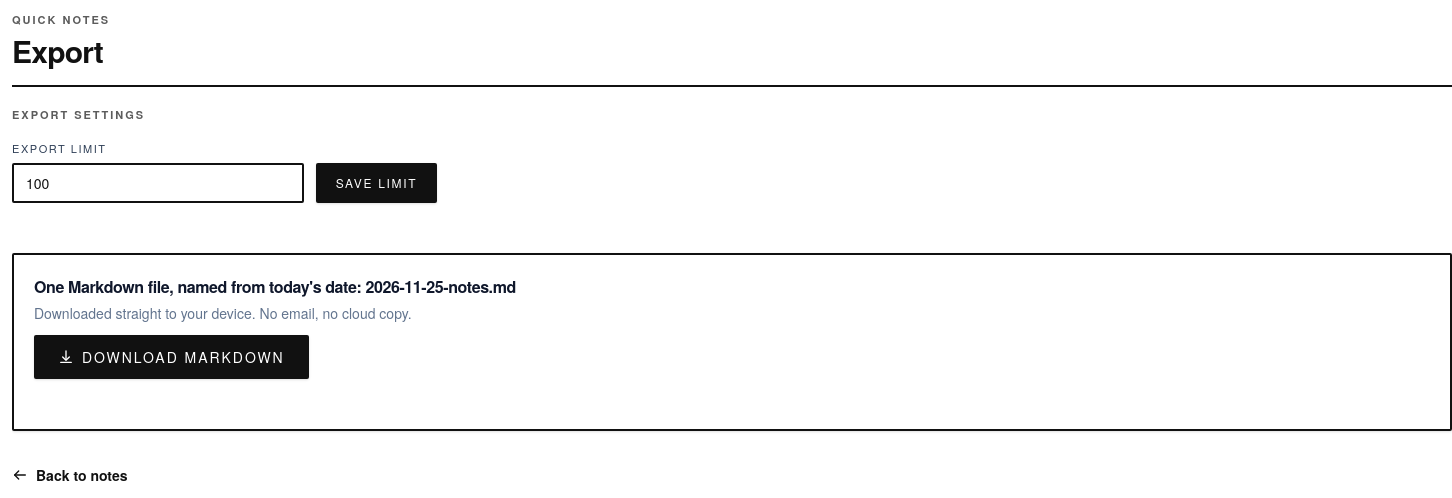
Scenario: Export screen — export-limit setting › [AC-019] saves a new positive whole number and confirms it
The image size is (1452, 498).
Replace the text in the field with test id "export-limit-default-100-input" with "25" at (158, 183), box left=12, top=163, right=304, bottom=203
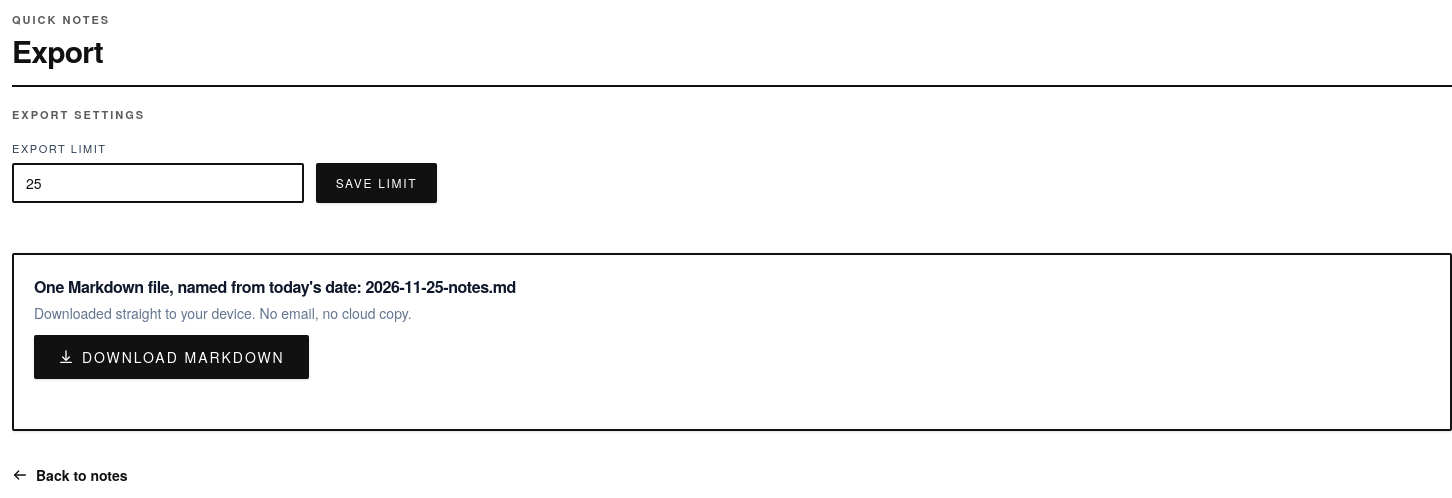
Click the button with test id "save-limit-btn" at (376, 183), box left=316, top=163, right=437, bottom=203
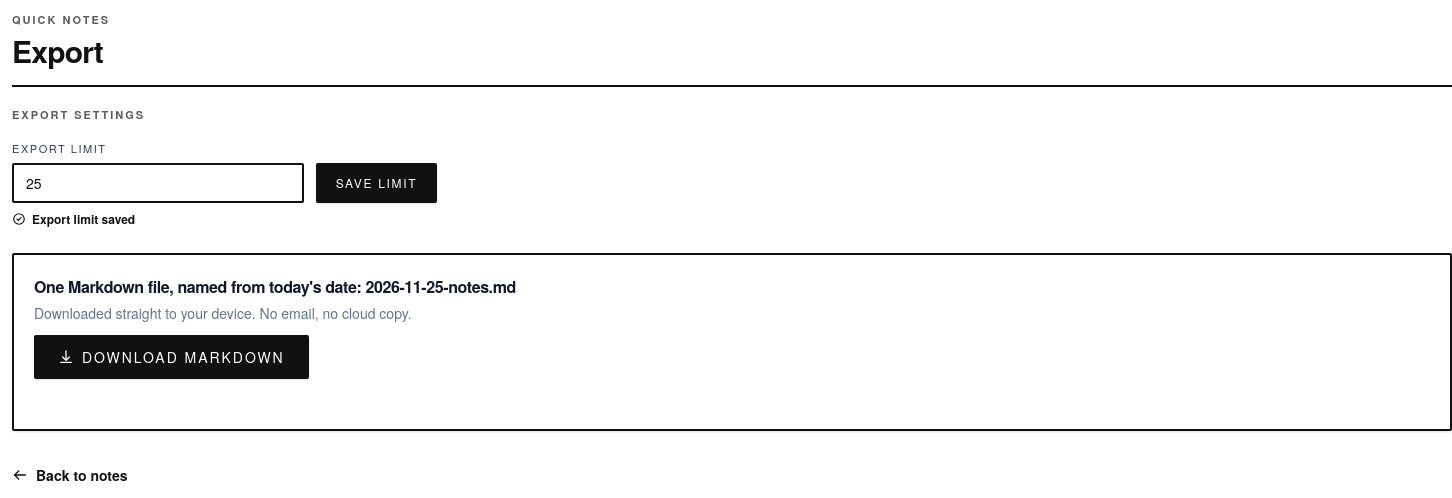
Now the text "Export limit saved" is shown, box left=12, top=211, right=135, bottom=227
